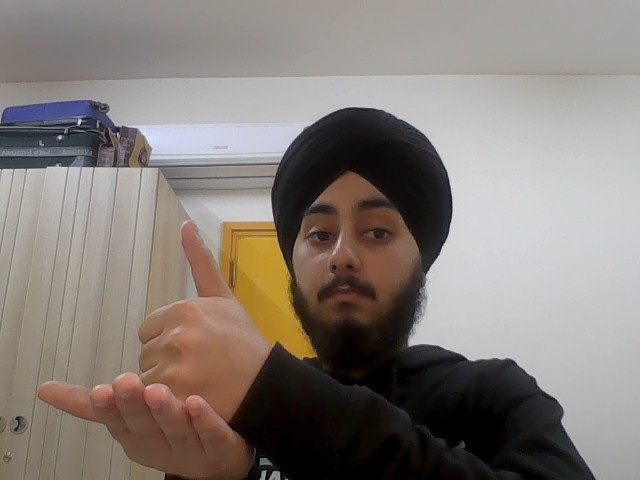Help: (40, 216, 282, 478)
